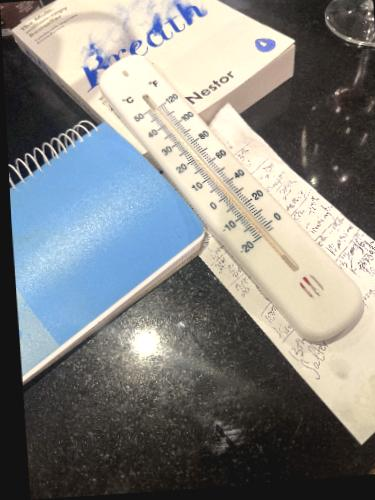thermo: (93, 31, 373, 349)
